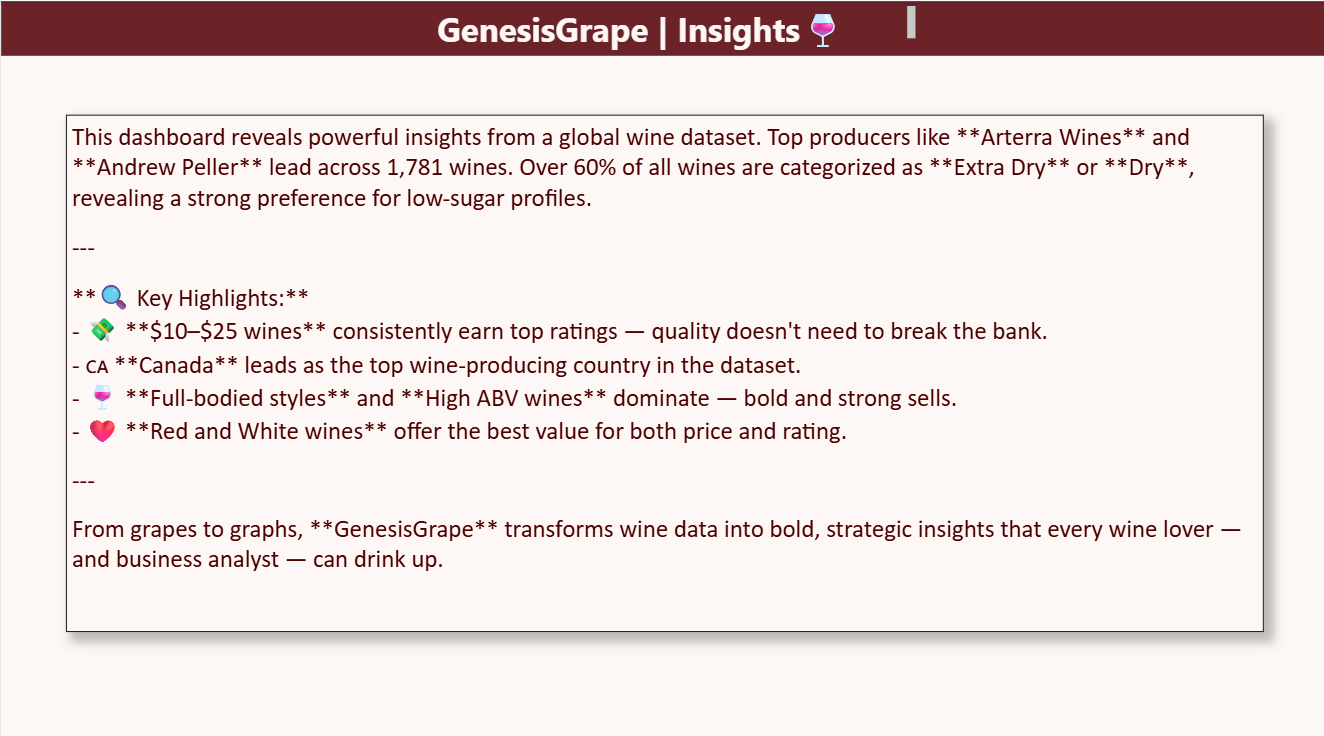

The page's visual inventory and layout, read from the dashboard file:
{"tool":"powerbi","page":{"name":"Page 2","canvas":[1280,720],"ordinal":1},"visuals":[{"type":"shape","box":[0,0,1280,53.1],"z":0},{"type":"textbox","box":[416.2,0,471.7,53.1],"z":1},{"type":"textbox","box":[62.7,109.8,1155.8,499.5],"z":2}]}

Visuals, with their boxes in screenshot pixels (x1, y1, x2, y2), scaled from the page's 1280x720 canvas onto the 1324x736 screenshot:
shape: [0,0,1323,54]
textbox: [431,0,918,54]
textbox: [65,112,1260,623]
